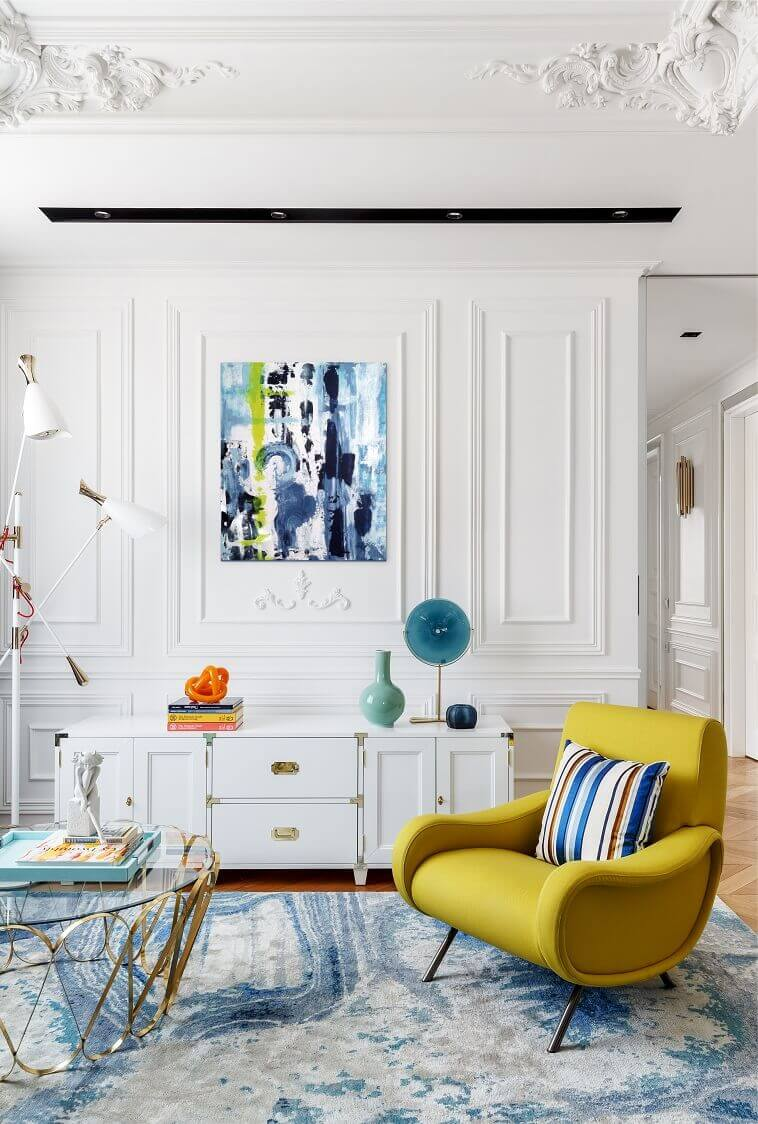biru: (404, 602, 471, 664), (362, 652, 406, 721), (443, 703, 477, 728)
kuning: (404, 718, 731, 972)
orange: (181, 664, 232, 700)
putih: (18, 387, 63, 438)
